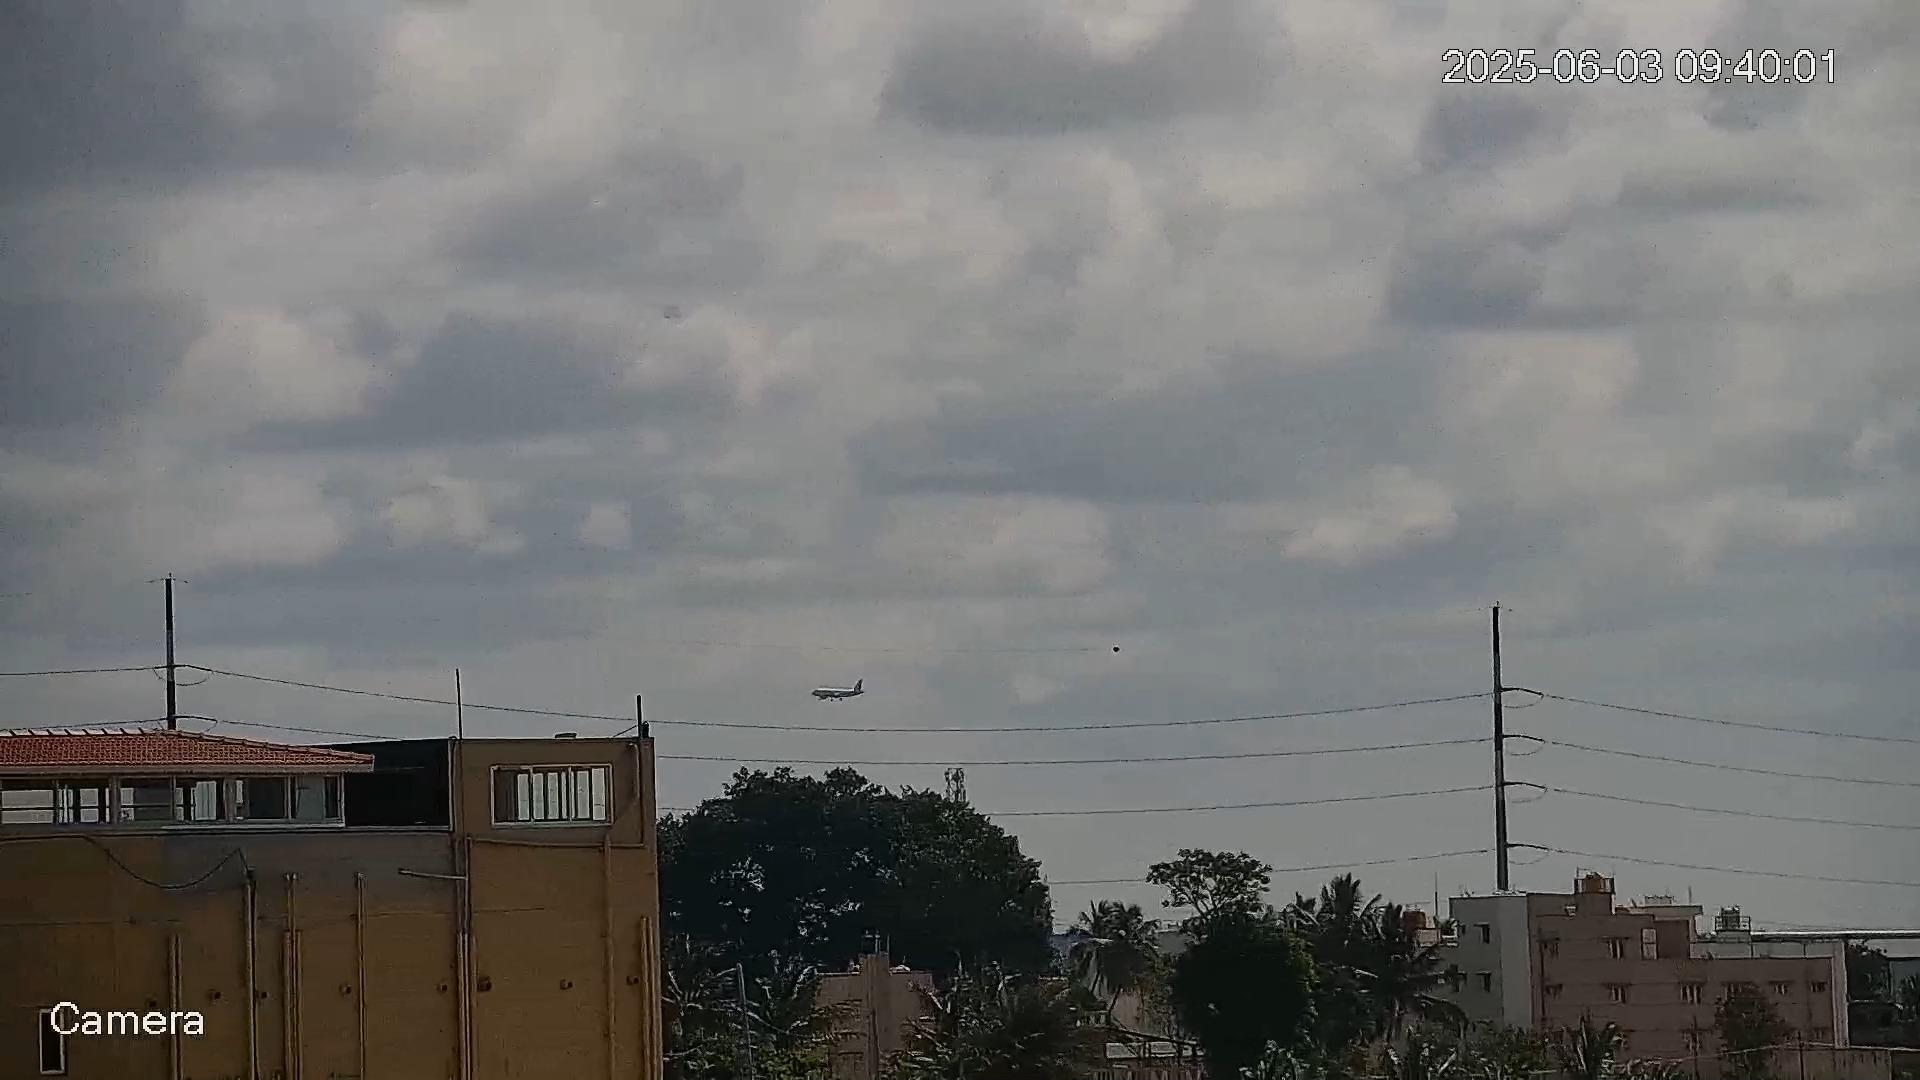Aircraft: (810, 679, 868, 702)
